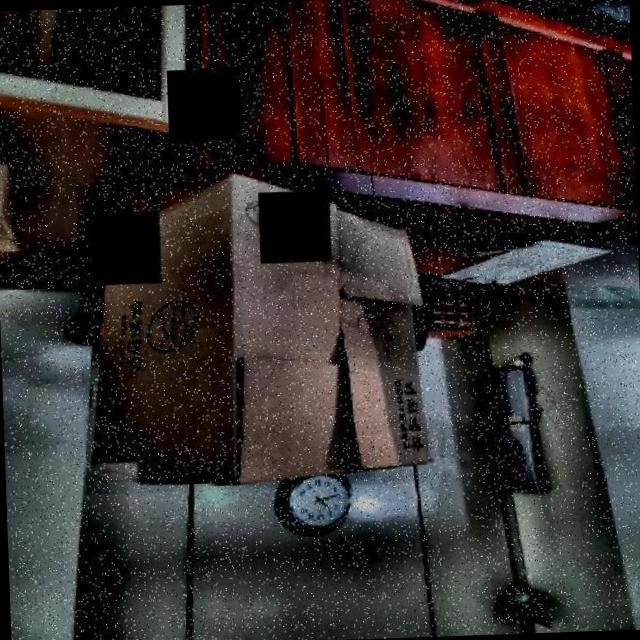box: (75, 172, 446, 494)
